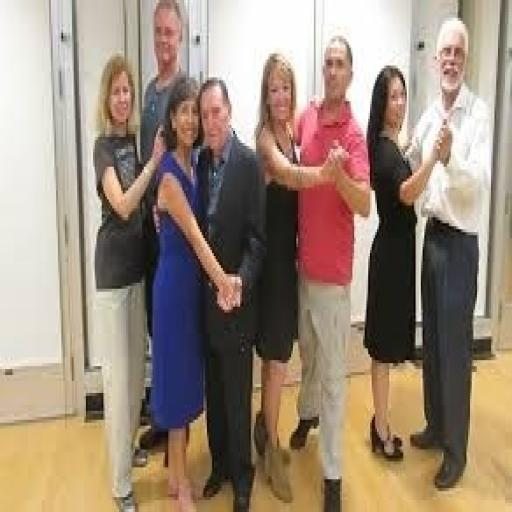dancing: (73, 46, 370, 427)
